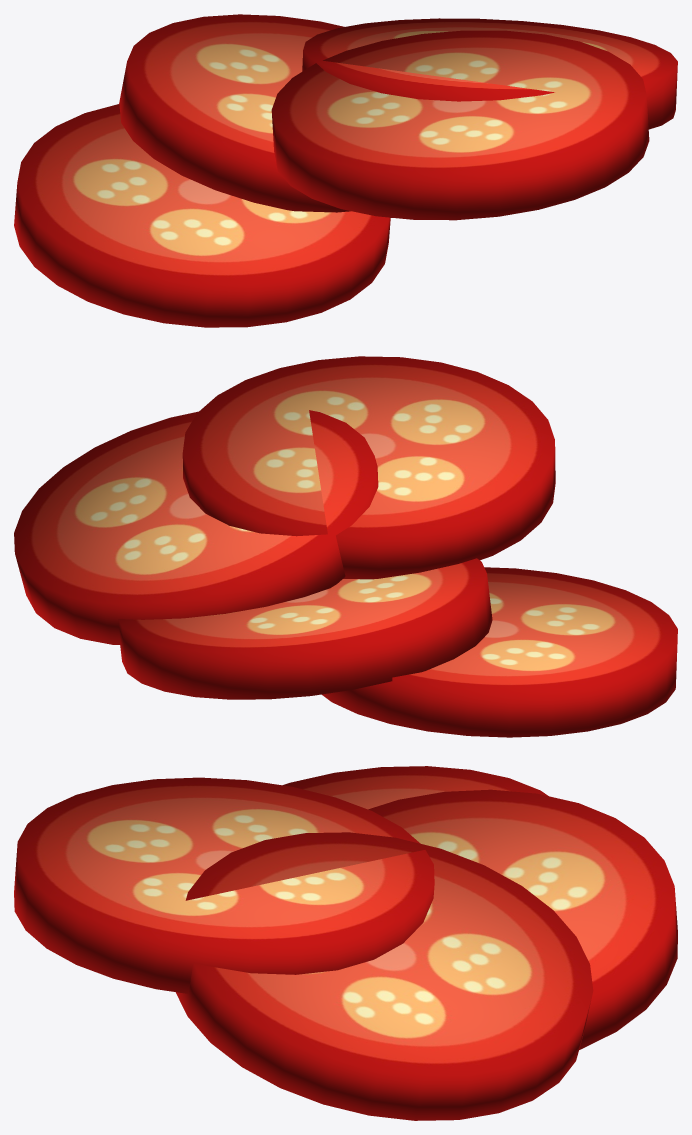
The model's file is kr_tomato_ch.glb.
3 views of the same model, one above another, from view 1: azimuth 30°, elevation 25°; view 2: azimuth 150°, elevation 25°; view 3: azimuth 270°, elevation 25° (orthographic). The views are drawn at different scales.
Visible parts, largest first — view 1: kr_tomato_ch_f_tomslice; view 2: kr_tomato_ch_f_tomslice; view 3: kr_tomato_ch_f_tomslice.
Part boxes in pixels (bbox=[...]): kr_tomato_ch_f_tomslice: bbox=[14, 14, 677, 327]; kr_tomato_ch_f_tomslice: bbox=[14, 356, 677, 737]; kr_tomato_ch_f_tomslice: bbox=[14, 766, 677, 1120].
Bounding box in the file's own units: 0.2579 × 0.0658 × 0.215.
1 material, 1 textured.
